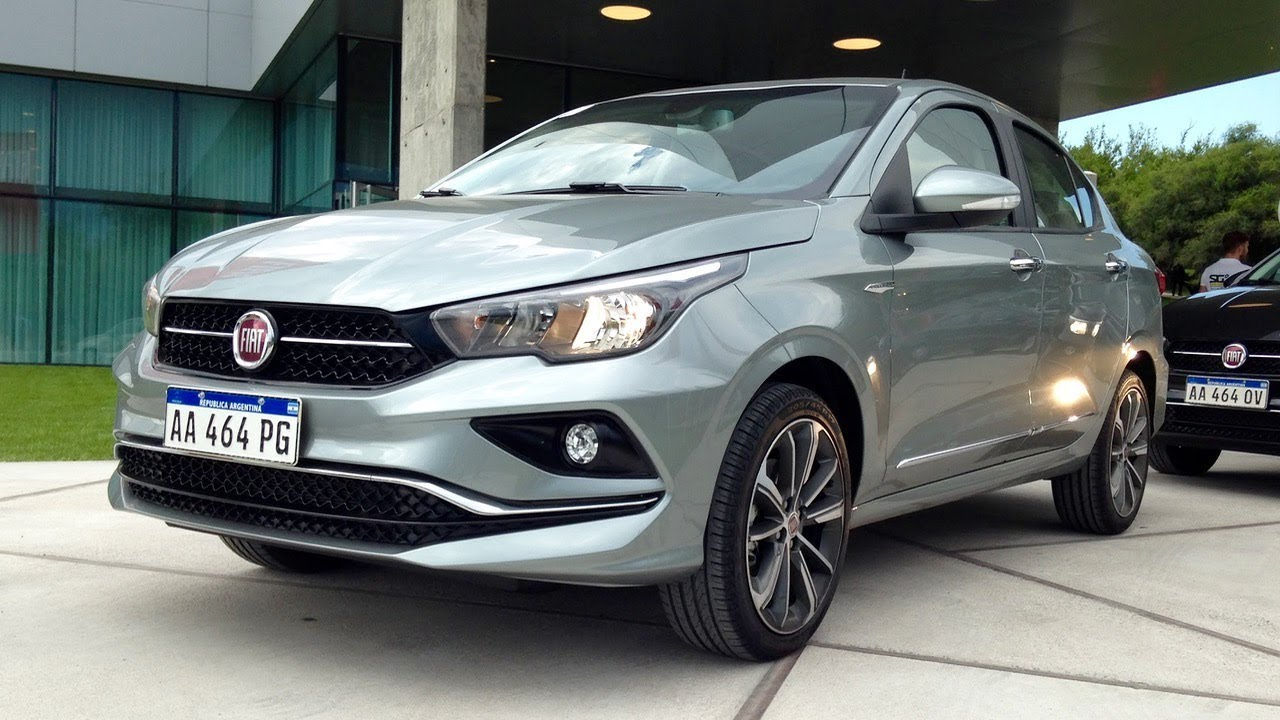car: (122, 77, 1159, 653), (1153, 218, 1280, 486)
